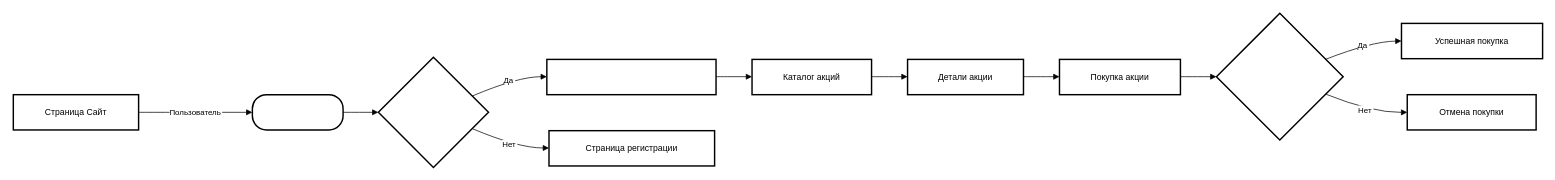
This 1555x180 diagram has some shape labels left out. The shapes that lost their labels are listed below. From the top down, each one's centre as x and y in pixels, then its label:
At point (631, 76): "Профиль пользователя".
At point (1279, 76): "Подтверждение?".
At point (297, 112): "Авторизация".
At point (433, 112): "Авторизован?".
